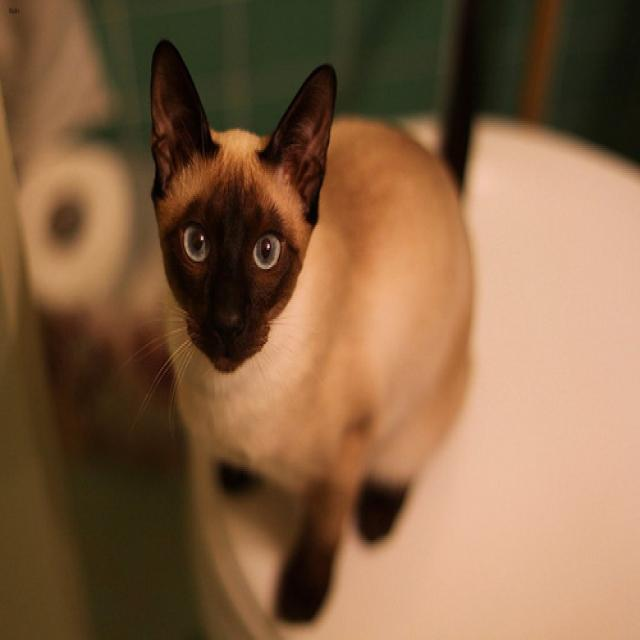Siamese: (149, 38, 336, 371)
